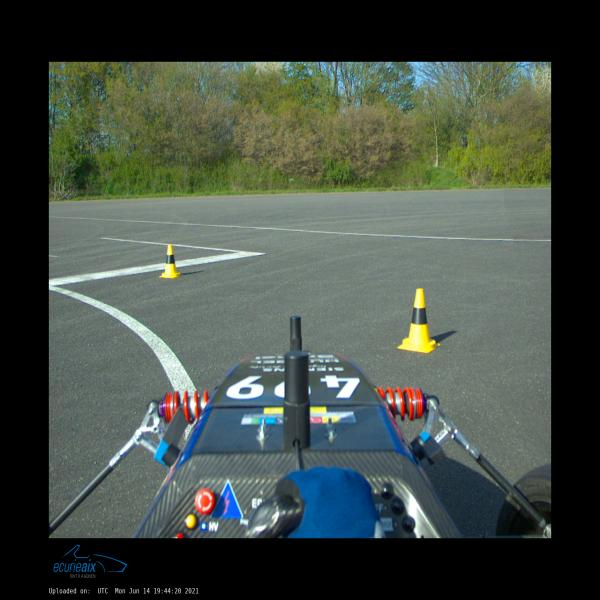yellow_cone: (398, 289, 441, 352), (159, 245, 184, 278)
